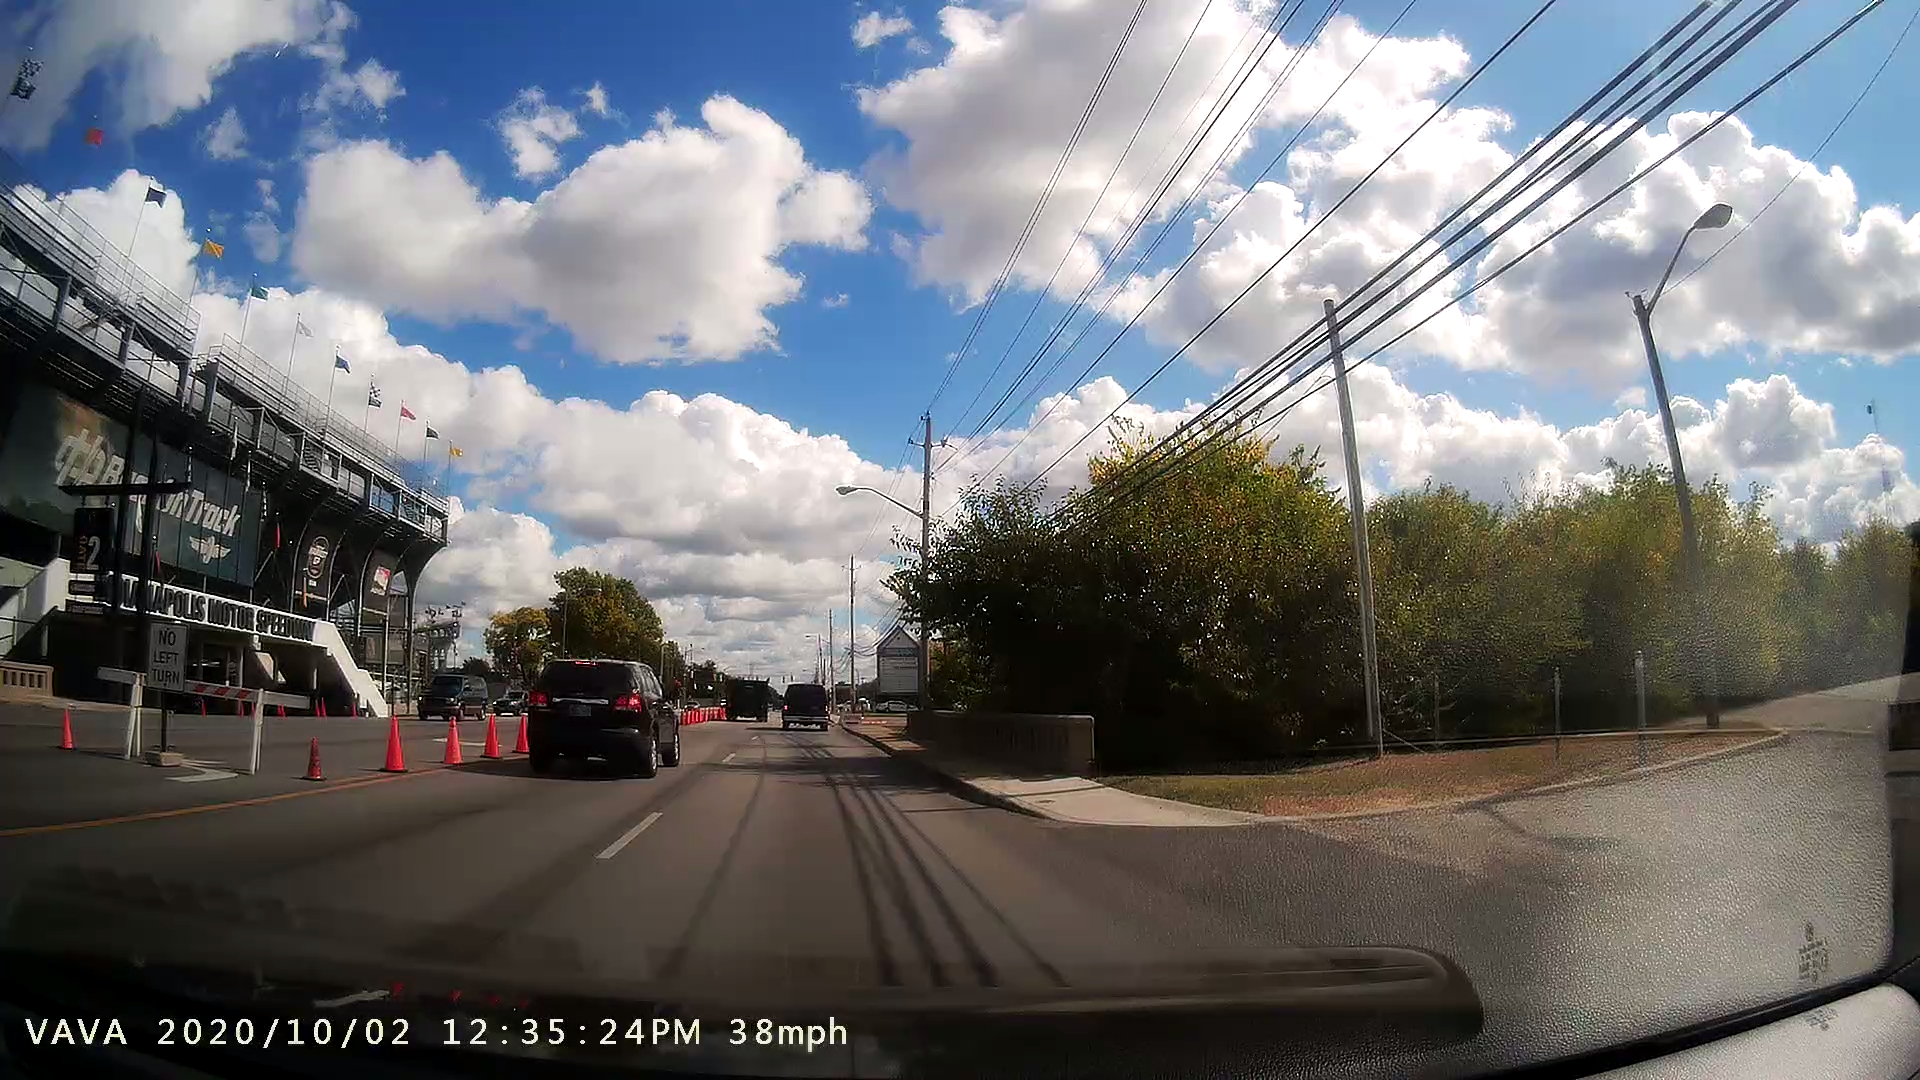const_cone: (367, 702, 411, 778), (475, 705, 506, 771), (440, 705, 469, 777)
